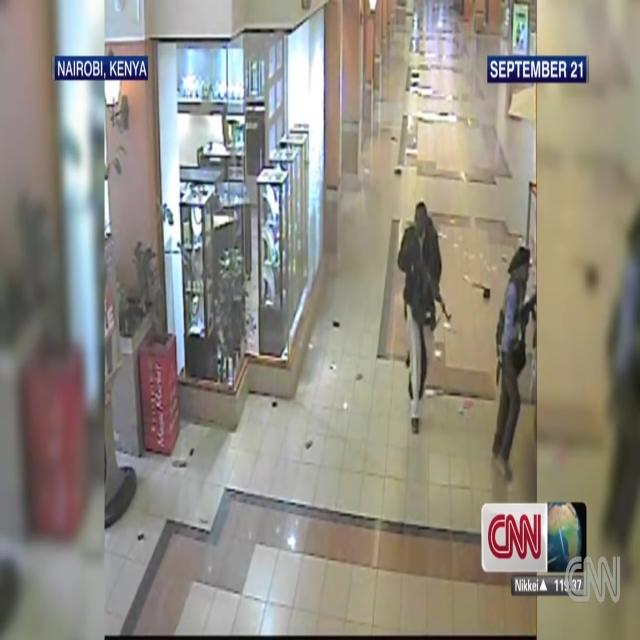Weapon: (404, 222, 459, 340), (518, 277, 535, 356)
